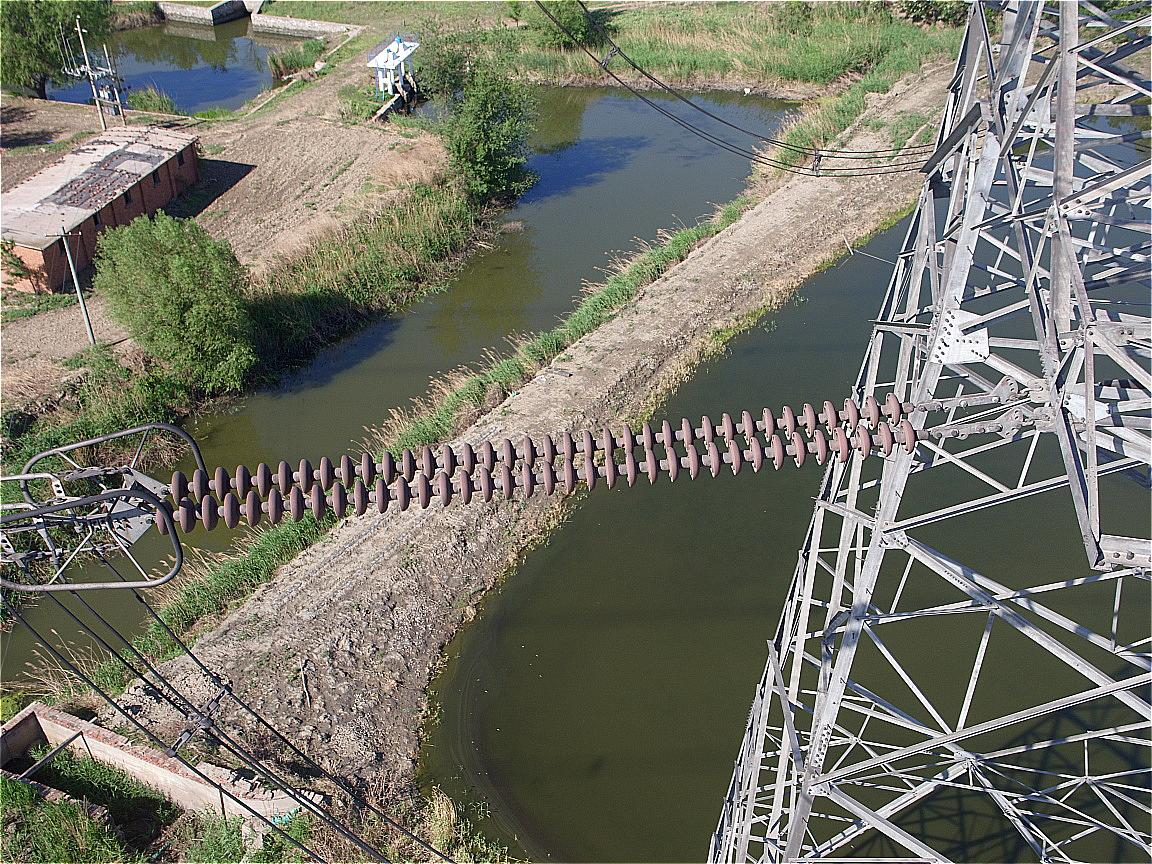insultor1: (155, 392, 915, 533)
